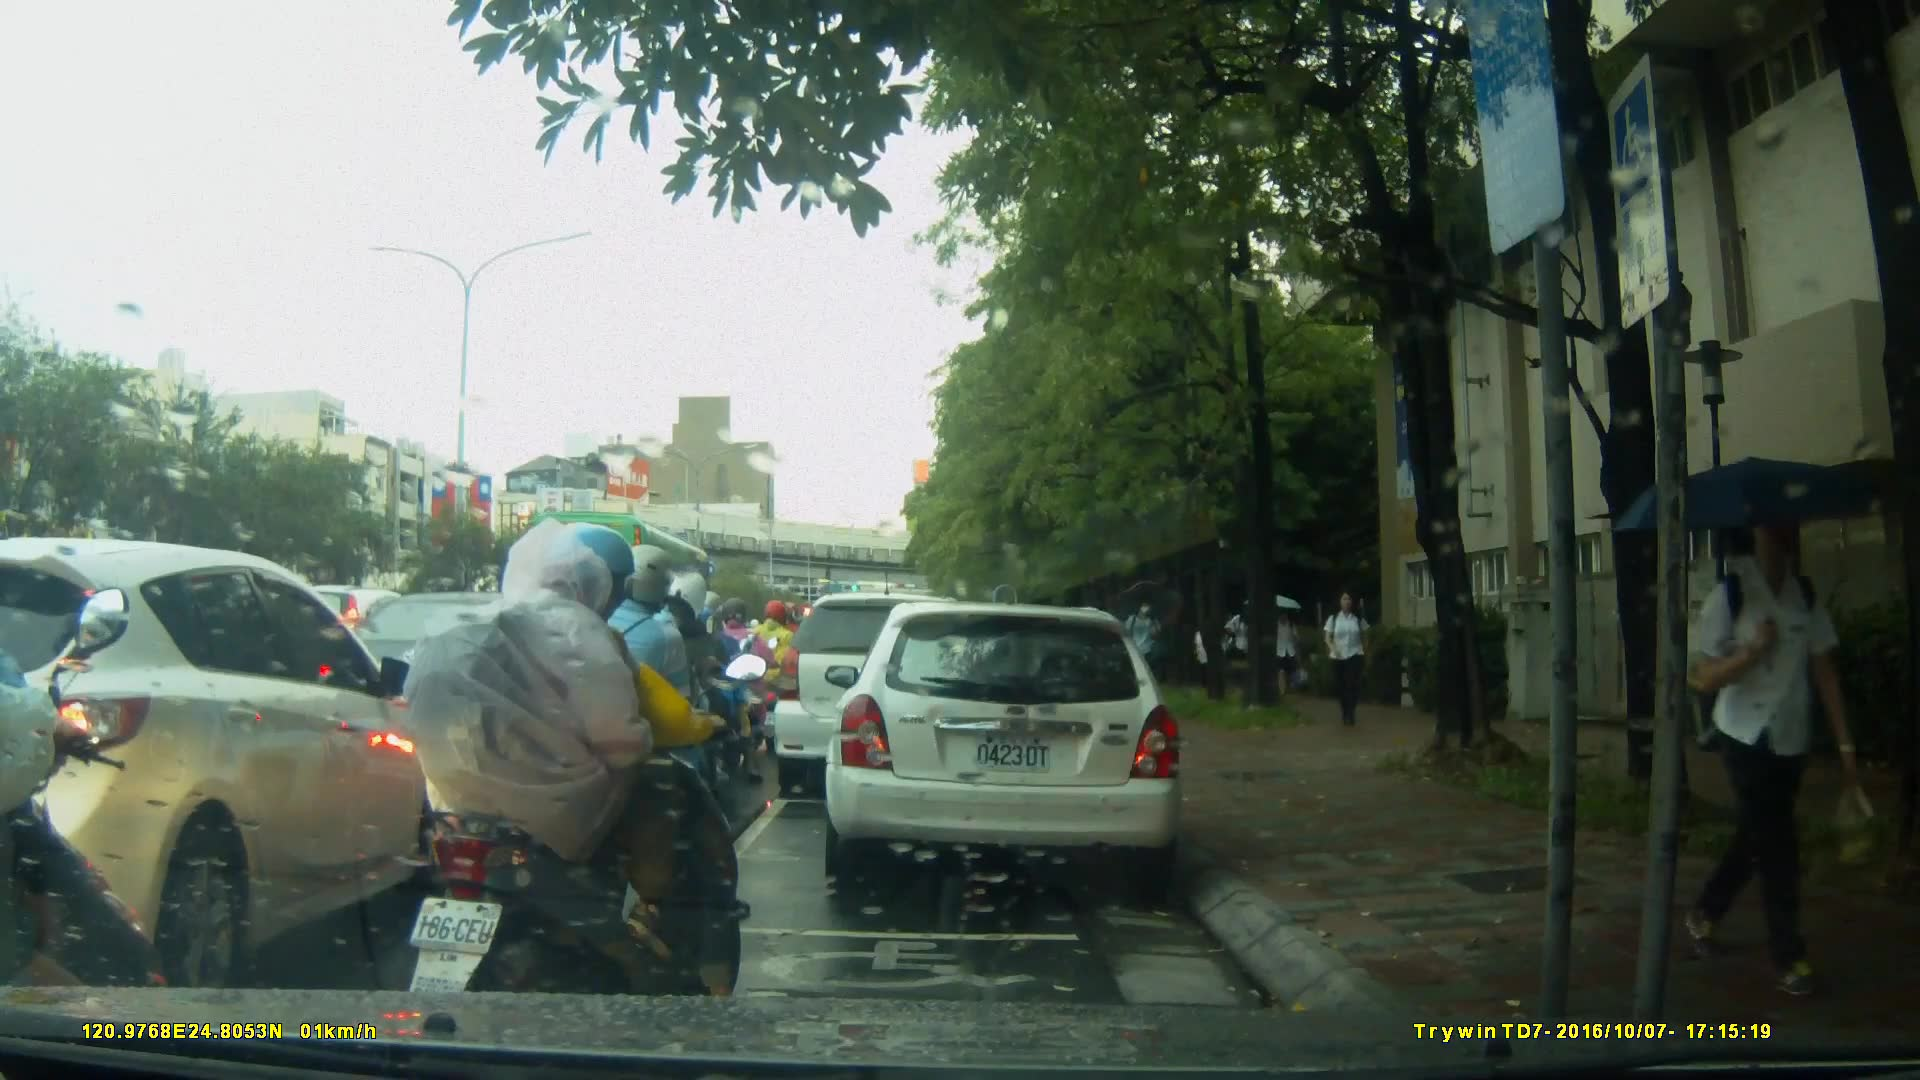pedestrian: (1688, 482, 1838, 992), (1315, 588, 1373, 729), (1124, 590, 1166, 711)
rider: (393, 514, 753, 1073), (1, 586, 178, 1080), (541, 546, 732, 887), (608, 570, 744, 864), (707, 601, 779, 765), (753, 603, 812, 744)
vehicle: (1, 536, 442, 988), (822, 604, 1186, 881), (774, 595, 995, 802), (543, 515, 736, 667)
